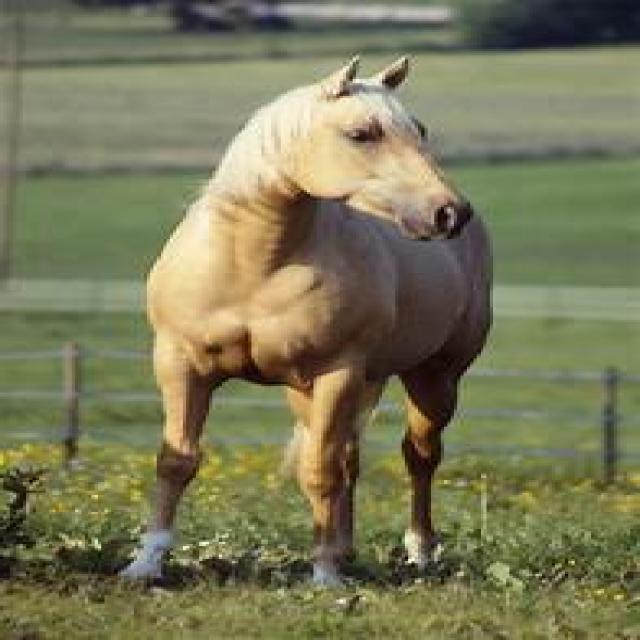horse: (118, 58, 496, 591)
